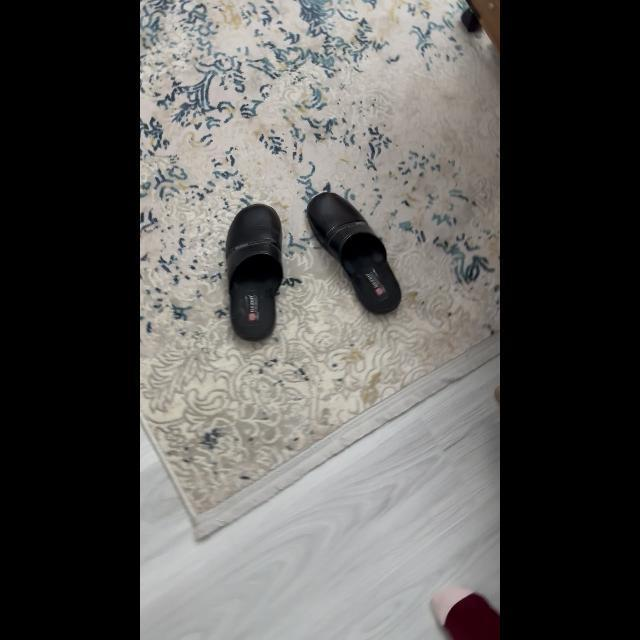slipper: (299, 188, 409, 320), (219, 202, 289, 344)
